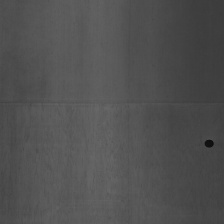punching_hole: (0, 95, 223, 110), (203, 137, 215, 149)
